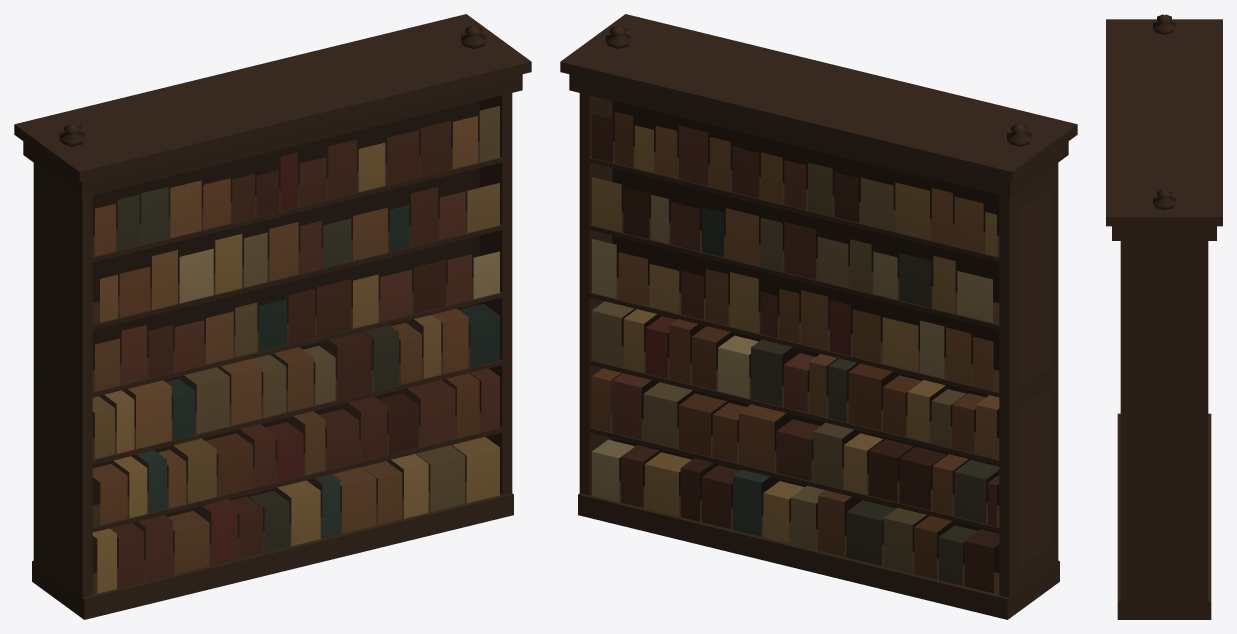
File: bookcase.double_tall.dark_oak.glb
The picture shows the model from 3 angles, left to right: view 1: azimuth 30°, elevation 25°; view 2: azimuth 150°, elevation 25°; view 3: azimuth 270°, elevation 25°; orthographic projection. The views are drawn at different scales.
Visible parts, largest first — view 1: bookcase_double_tall_dark_oak; view 2: bookcase_double_tall_dark_oak; view 3: bookcase_double_tall_dark_oak.
Part boxes in pixels (x1,y1,x2,y2): bookcase_double_tall_dark_oak: (14, 14, 531, 619); bookcase_double_tall_dark_oak: (560, 14, 1077, 619); bookcase_double_tall_dark_oak: (1106, 14, 1222, 619).
Size of what is drawn, in the model's own units: 3.2 by 3.2 by 0.8.
